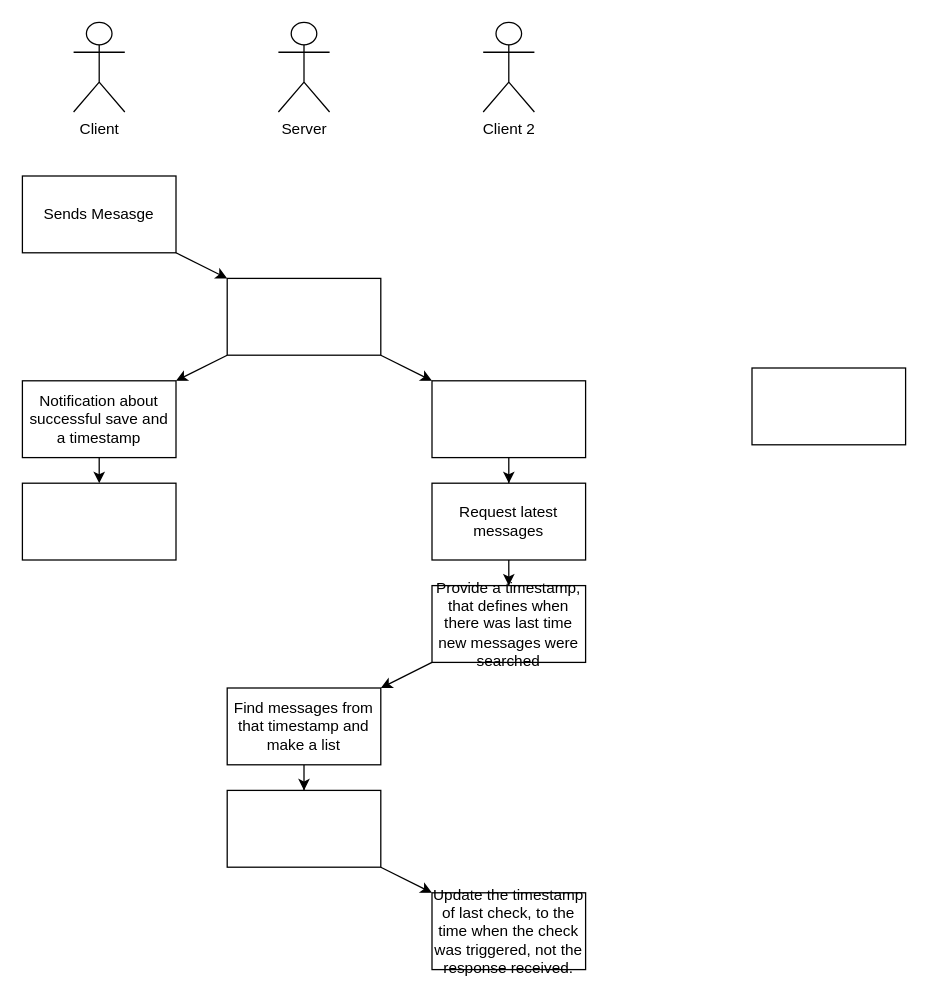
This 928x1000 diagram has some shape labels left out. Each missing label, with the centre of its shape:
"Add message to the list" goes at (x=98, y=521).
"Notification about ne messages" goes at (x=508, y=419).
"return the list" goes at (x=303, y=828).
"Saves message, define timestamp" goes at (x=303, y=316).
"Where there will be time set to UTC" goes at (x=828, y=406).
